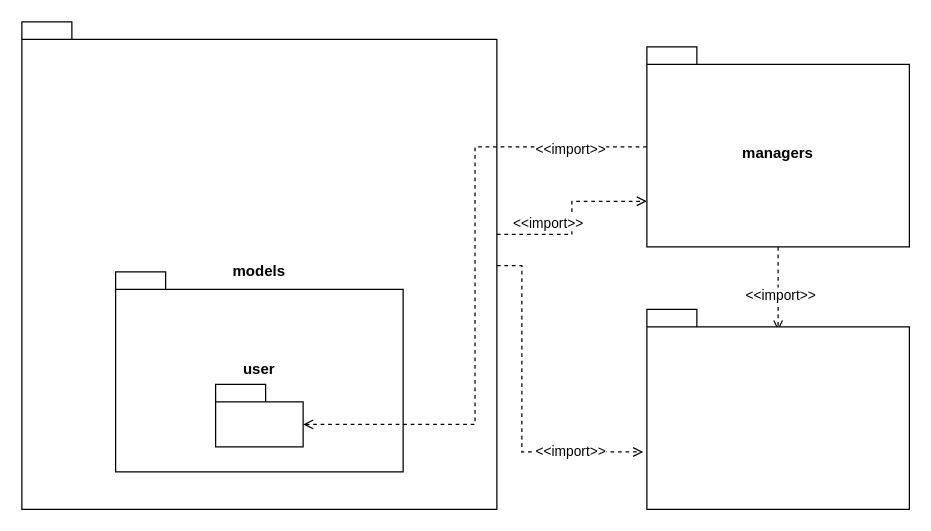
Some shapes in this 931 by 531 pixel diagram are drawn without their labels. Each missing label, with the centre of its shape:
instances: (258,415)
system: (777,408)
